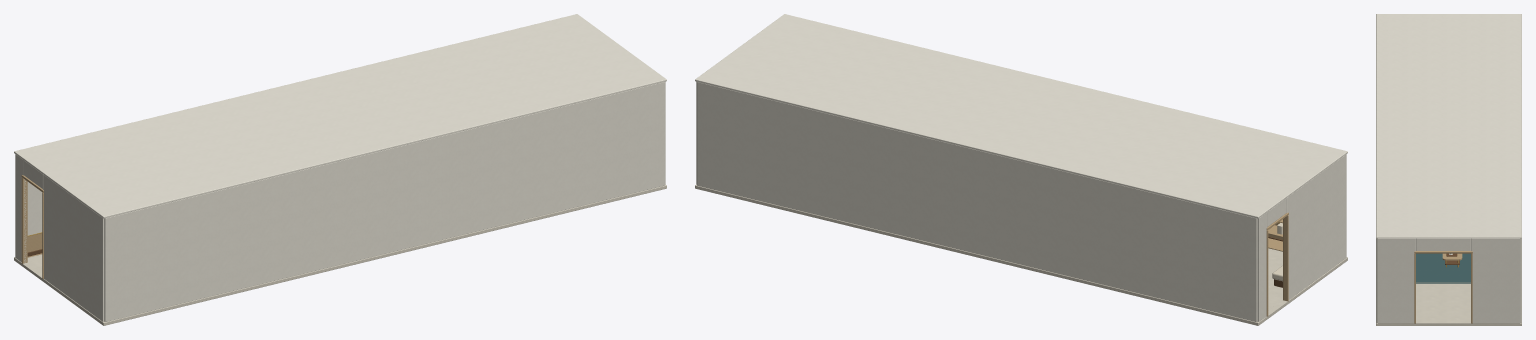
The model's file is room.glb.
The picture shows the model from 3 angles, left to right: view 1: azimuth 30°, elevation 25°; view 2: azimuth 150°, elevation 25°; view 3: azimuth 270°, elevation 25°; orthographic projection. The views are drawn at different scales.
Parts seen in each view (by area): view 1: Interior.LoungeLongWall.001, Interior.LoungeCeiling, Interior.WestShell.Lounge_plaster, Interior.LoungeStoneFloor, Interior.WestShell.Lounge_oak, Interior.LoungeLongWall; view 2: Interior.LoungeLongWall, Interior.LoungeCeiling, Interior.WestShell.Lounge_plaster, Interior.LoungeStoneFloor, Interior.WestShell.Lounge_oak; view 3: Interior.LoungeCeiling, Interior.EastShell.Lounge_plaster, Interior.LoungeStoneFloor, Interior.WovenRug.001, Interior.EastShell.Lounge_oak, Interior.LoungeLongWall, Interior.LoungeLongWall.001, Interior.PortalThreshold, Interior.TeaTableTop.001.
Part boxes in pixels (x1,y1,x2,y2): Interior.LoungeLongWall.001: [104, 82, 664, 321]; Interior.LoungeCeiling: [14, 14, 666, 218]; Interior.WestShell.Lounge_plaster: [15, 154, 104, 321]; Interior.LoungeStoneFloor: [14, 184, 666, 325]; Interior.WestShell.Lounge_oak: [21, 175, 43, 278]; Interior.LoungeLongWall: [27, 182, 42, 235]; Interior.LoungeLongWall: [697, 82, 1257, 321]; Interior.LoungeCeiling: [695, 14, 1347, 218]; Interior.WestShell.Lounge_plaster: [1257, 154, 1346, 321]; Interior.LoungeStoneFloor: [695, 184, 1347, 325]; Interior.WestShell.Lounge_oak: [1266, 212, 1288, 316]; Interior.LoungeCeiling: [1376, 14, 1521, 238]; Interior.EastShell.Lounge_plaster: [1377, 238, 1520, 323]; Interior.LoungeStoneFloor: [1376, 239, 1521, 325]; Interior.WovenRug.001: [1416, 253, 1470, 283]; Interior.EastShell.Lounge_oak: [1414, 251, 1472, 323]; Interior.LoungeLongWall: [1520, 238, 1521, 322]; Interior.LoungeLongWall.001: [1376, 238, 1377, 322]; Interior.PortalThreshold: [1416, 321, 1470, 323]; Interior.TeaTableTop.001: [1442, 253, 1462, 260].
Bounding box in the file's own units: 21.6 × 3.99 × 5.94.
Materials: 22 (10 with a texture image).
